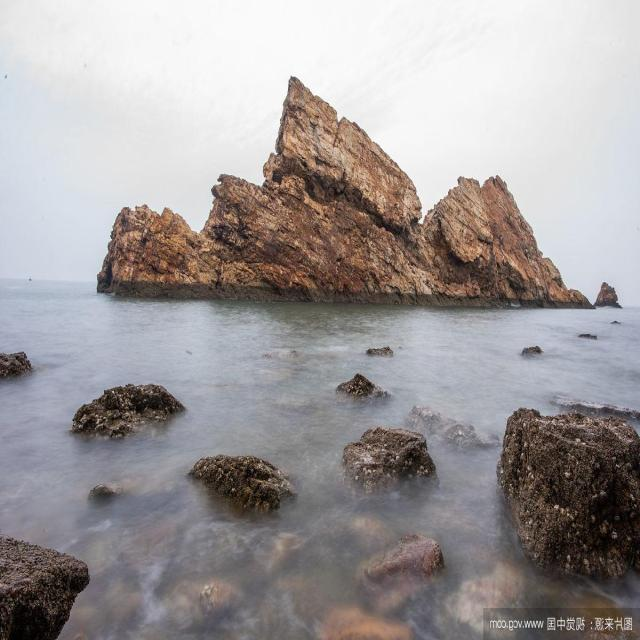reef: (107, 65, 578, 310)
